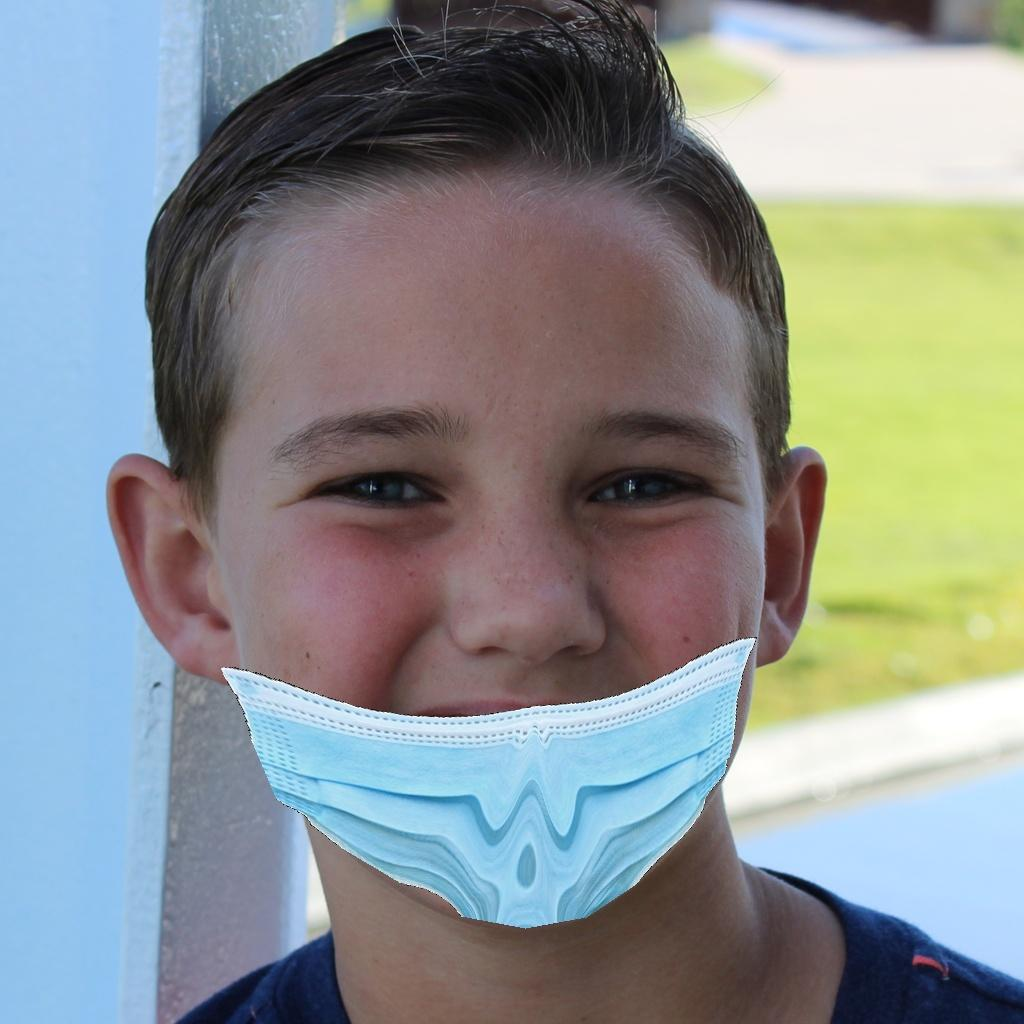Máscara Incorreta: (170, 233, 780, 902)
